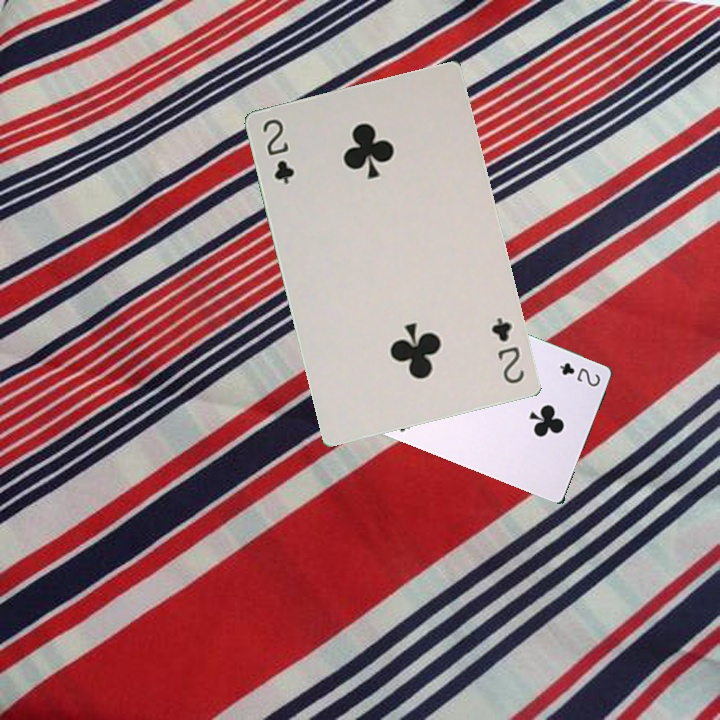2c: (487, 313, 527, 386), (258, 114, 297, 187), (555, 358, 603, 390)
